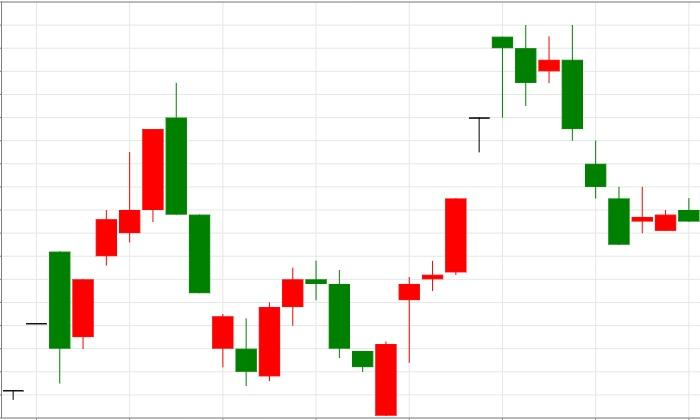hanging_man_fall: (375, 36, 513, 416)
